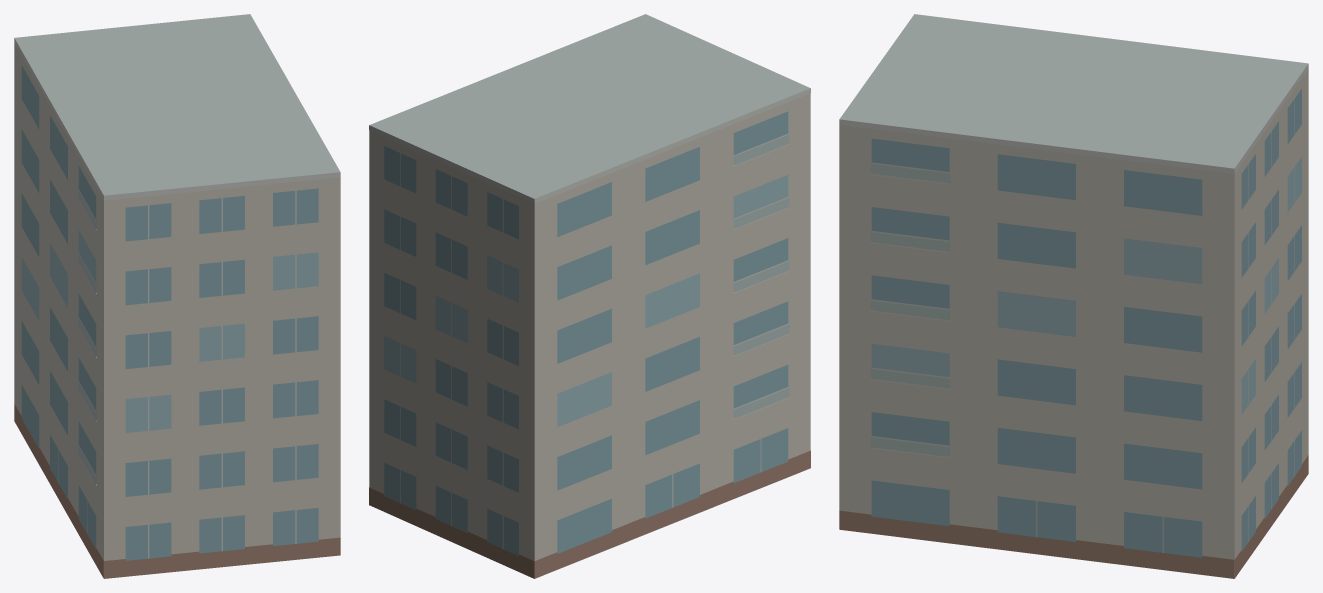
File: survey-upis-32872724.glb
The picture shows the model from 3 angles, left to right: view 1: azimuth 30°, elevation 25°; view 2: azimuth 150°, elevation 25°; view 3: azimuth 270°, elevation 25°; orthographic projection. The views are drawn at different scales.
Parts seen in each view (by area): view 1: survey-upis-32872724.tmp; view 2: survey-upis-32872724.tmp; view 3: survey-upis-32872724.tmp.
Boxes of the visible parts, x1,y1,x2,y2 form: survey-upis-32872724.tmp: [14, 14, 340, 578]; survey-upis-32872724.tmp: [369, 14, 810, 578]; survey-upis-32872724.tmp: [839, 14, 1308, 578].
Size of the model in its own units: 14.88 by 18.4 by 19.08.
